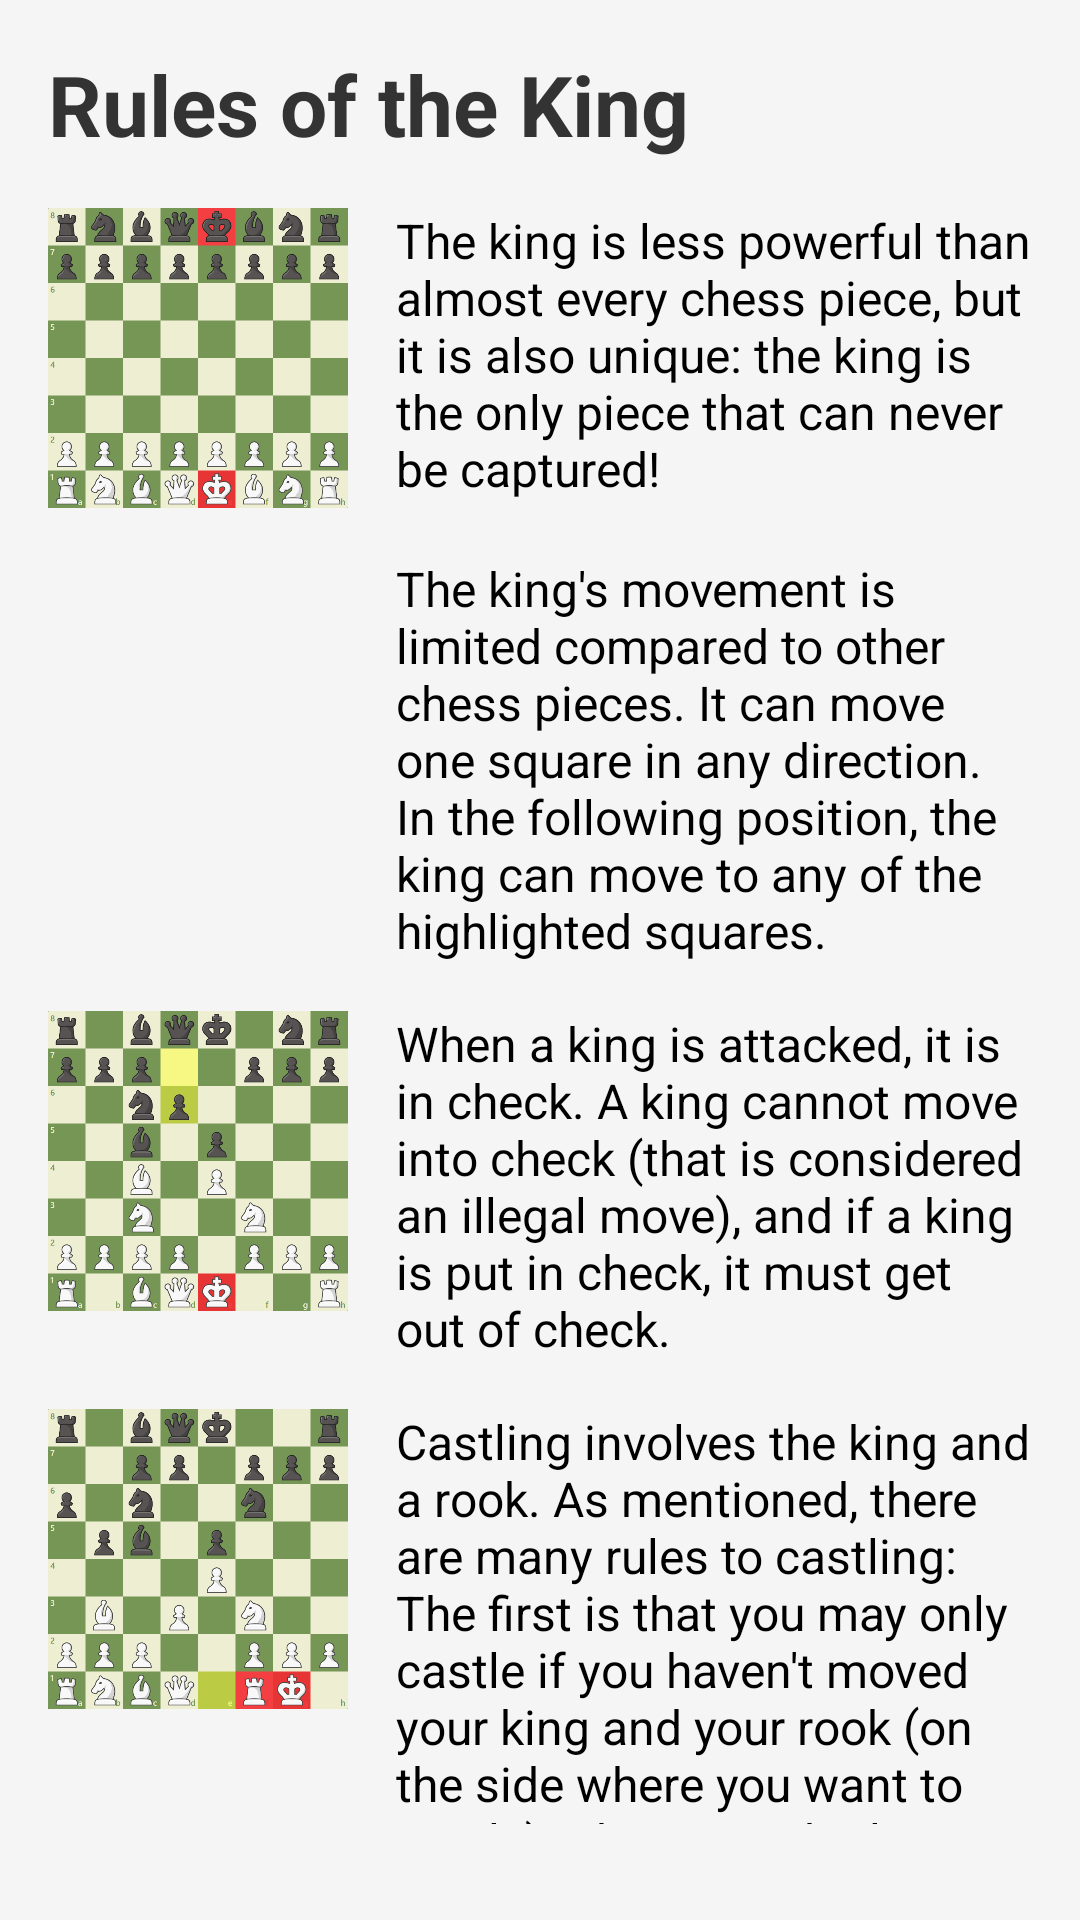

Where icons sit on this 1080px×1920px app screen, as bbox=[x1, y1, x2, y2]:
kingcastleafter: bbox=[48, 1409, 348, 1709]
kingmoves: bbox=[48, 208, 348, 508], bbox=[48, 1011, 348, 1311]
